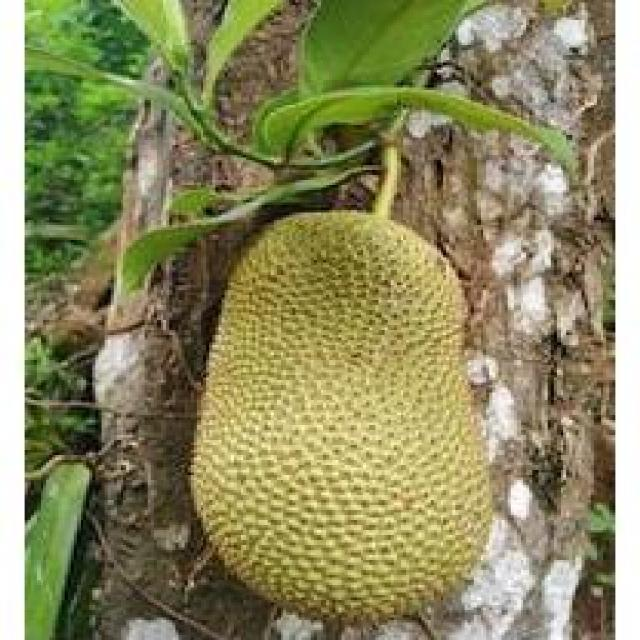Fruit: (160, 198, 520, 632)
